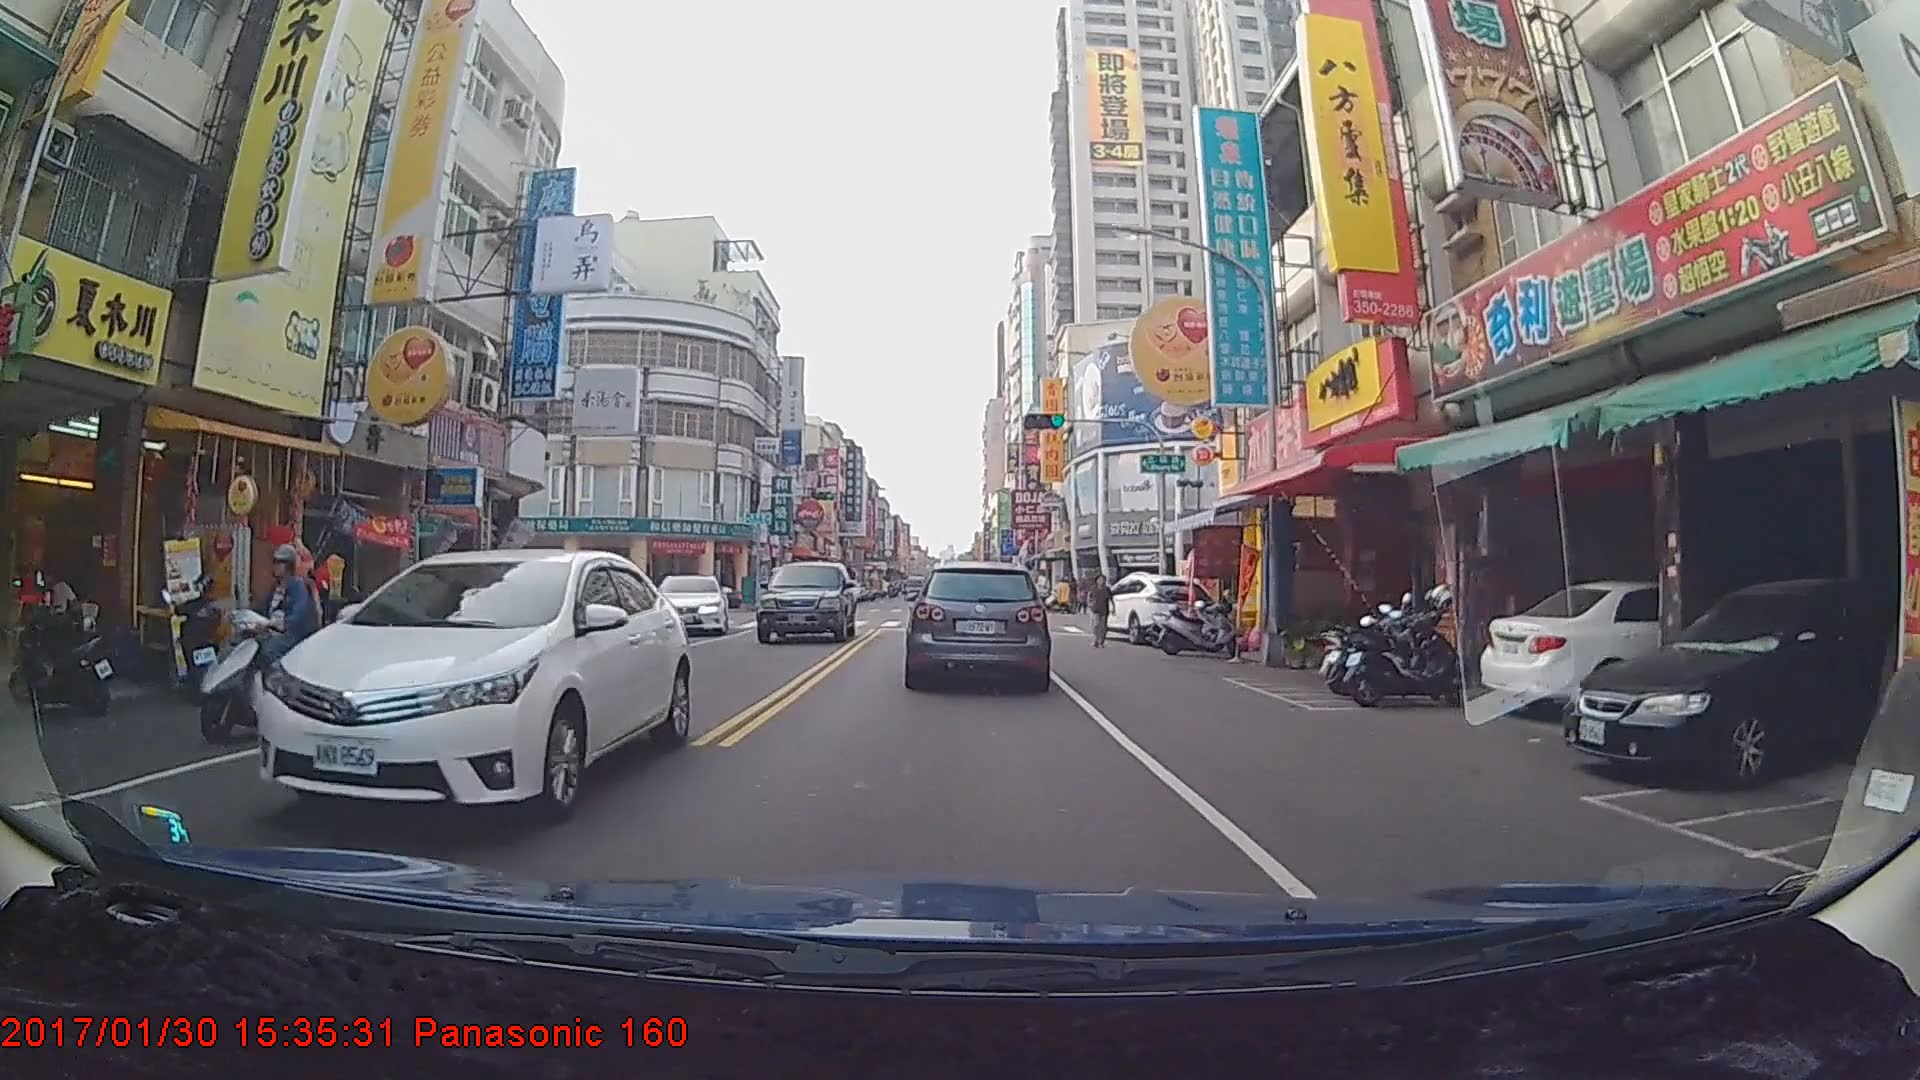pedestrian: (1088, 574, 1115, 651)
rider: (191, 542, 329, 745)
vehicle: (256, 546, 693, 829), (1558, 568, 1920, 792), (907, 560, 1048, 689), (1085, 574, 1222, 646), (758, 559, 857, 646), (649, 571, 729, 636), (902, 576, 928, 604)
